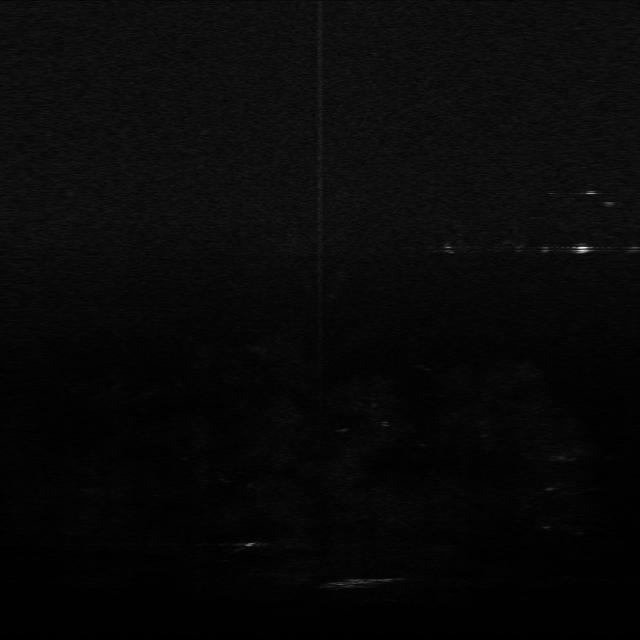rov: (568, 239, 594, 256)
